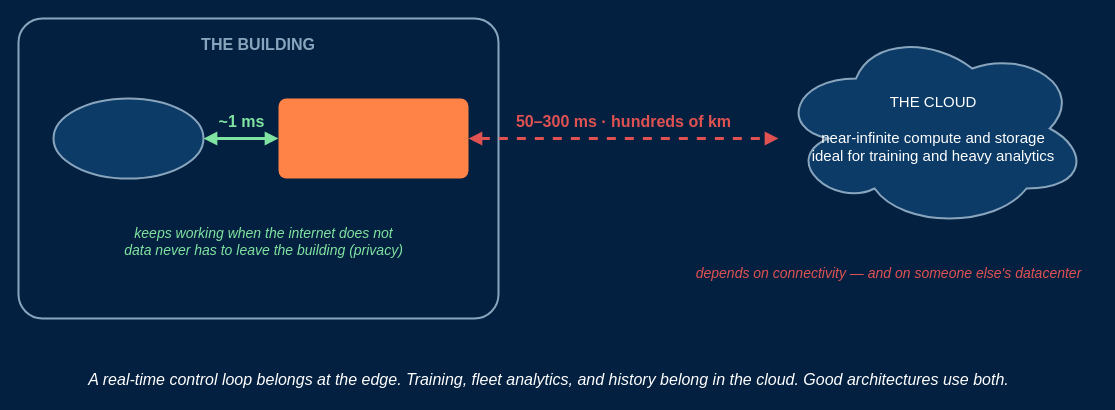
This 1115x410 diagram has some shape labels left out. Each missing label, with the centre of its shape:
EDGE NODE compute next to the sensors: [373,138]
sensors temp · CO₂ · smoke: [128,138]
